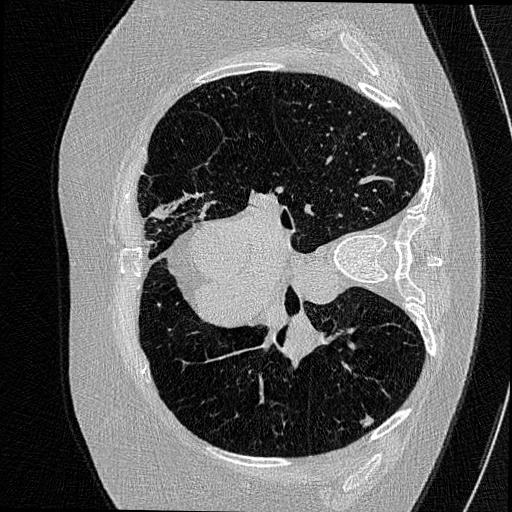nodule: (359, 413, 375, 429)
